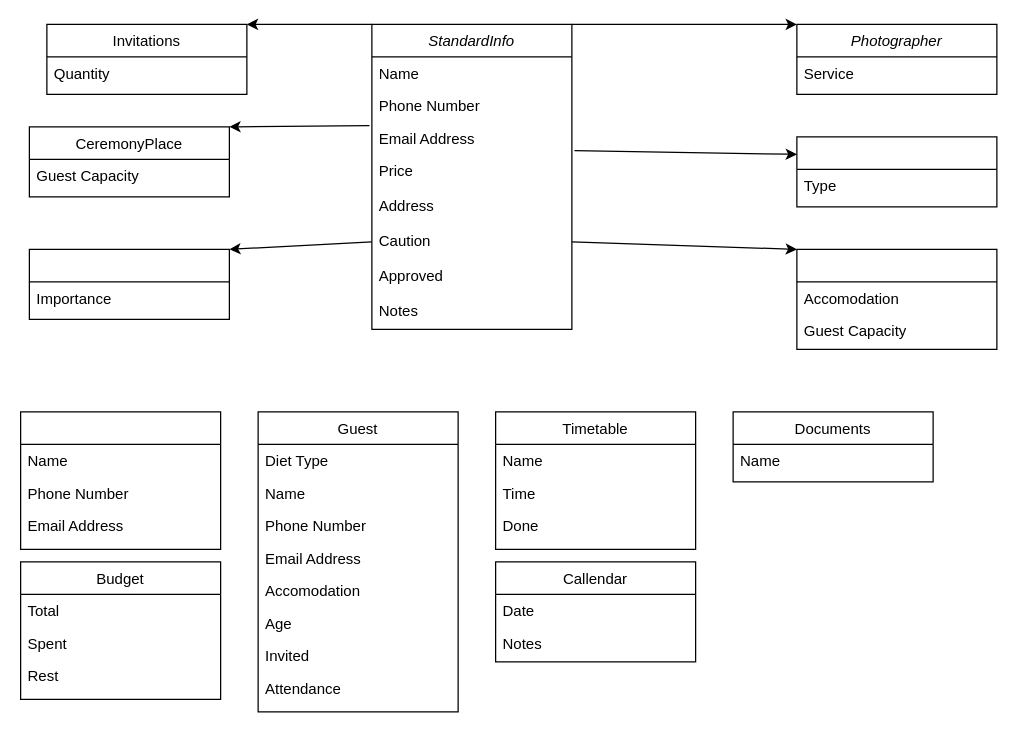
Some shapes in this 1018 by 733 pixel diagram are drawn without their labels. The box of each missing label's shape, as (x1, y1, x2, y2) in pixels:
AdditionalServices: (28, 248, 229, 319)
Music: (796, 136, 997, 207)
User: (19, 411, 221, 549)
WeddingHall: (796, 248, 997, 349)
